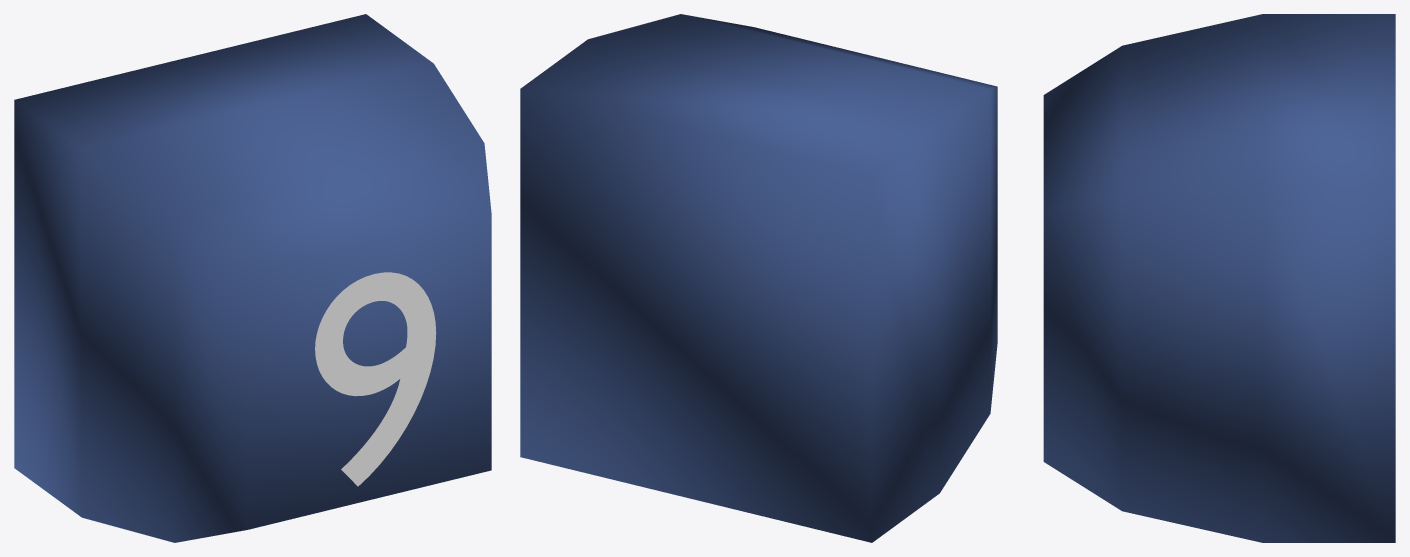
The model's file is lockbutton9.glb.
3 renders of one model, left to right at view 1: azimuth 30°, elevation 25°; view 2: azimuth 150°, elevation 25°; view 3: azimuth 270°, elevation 25°, orthographic. The views are drawn at different scales.
Parts seen in each view (by area): view 1: Text.008; view 2: Text.008; view 3: Text.008.
Part boxes in pixels (x1,y1,x2,y2): Text.008: (14, 14, 491, 542); Text.008: (520, 14, 997, 542); Text.008: (1043, 14, 1395, 542).
Size of the model in its own units: 0.0488 by 0.0488 by 0.0452.
